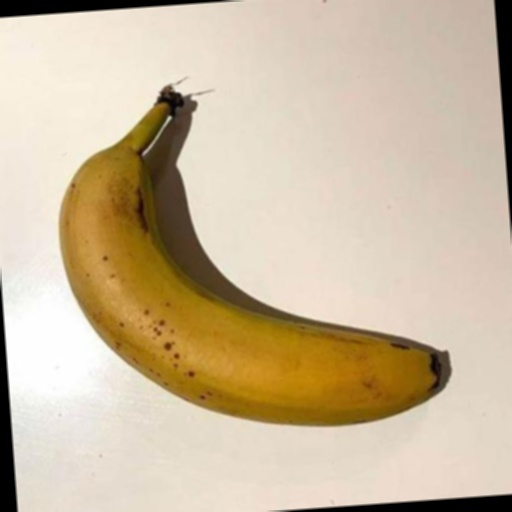fruit: (378, 180, 493, 502)
